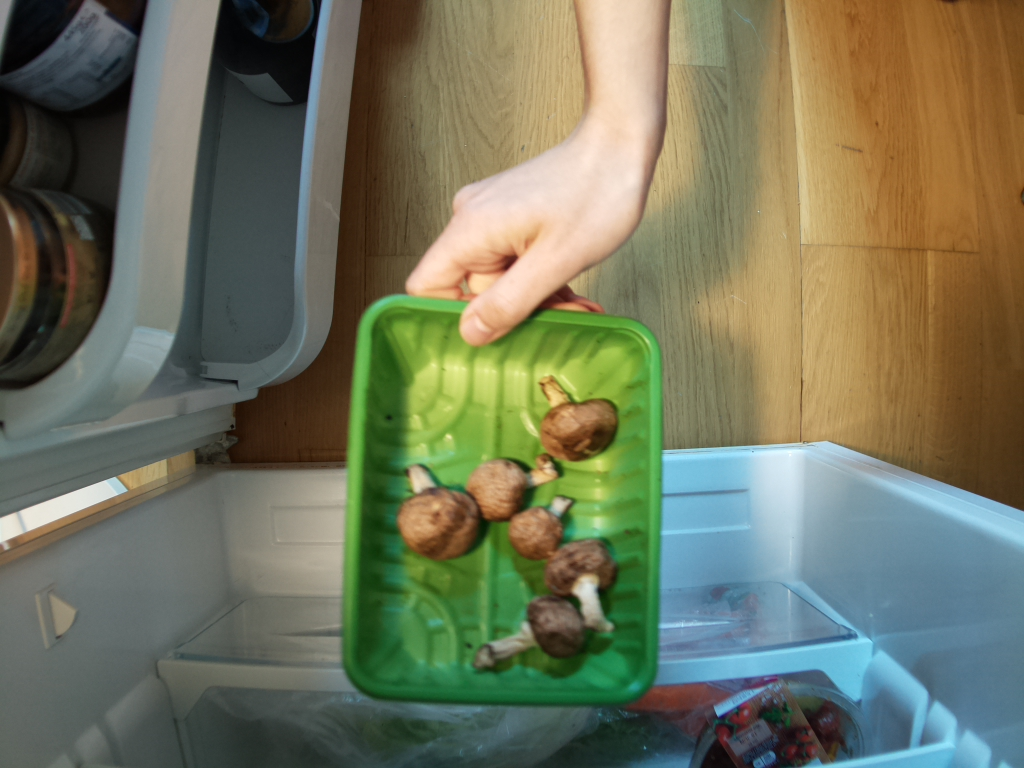mushrooms-bad: (343, 295, 676, 707)
